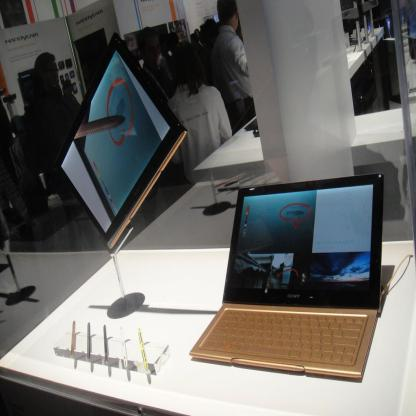board: (190, 172, 385, 383), (55, 31, 187, 254)
